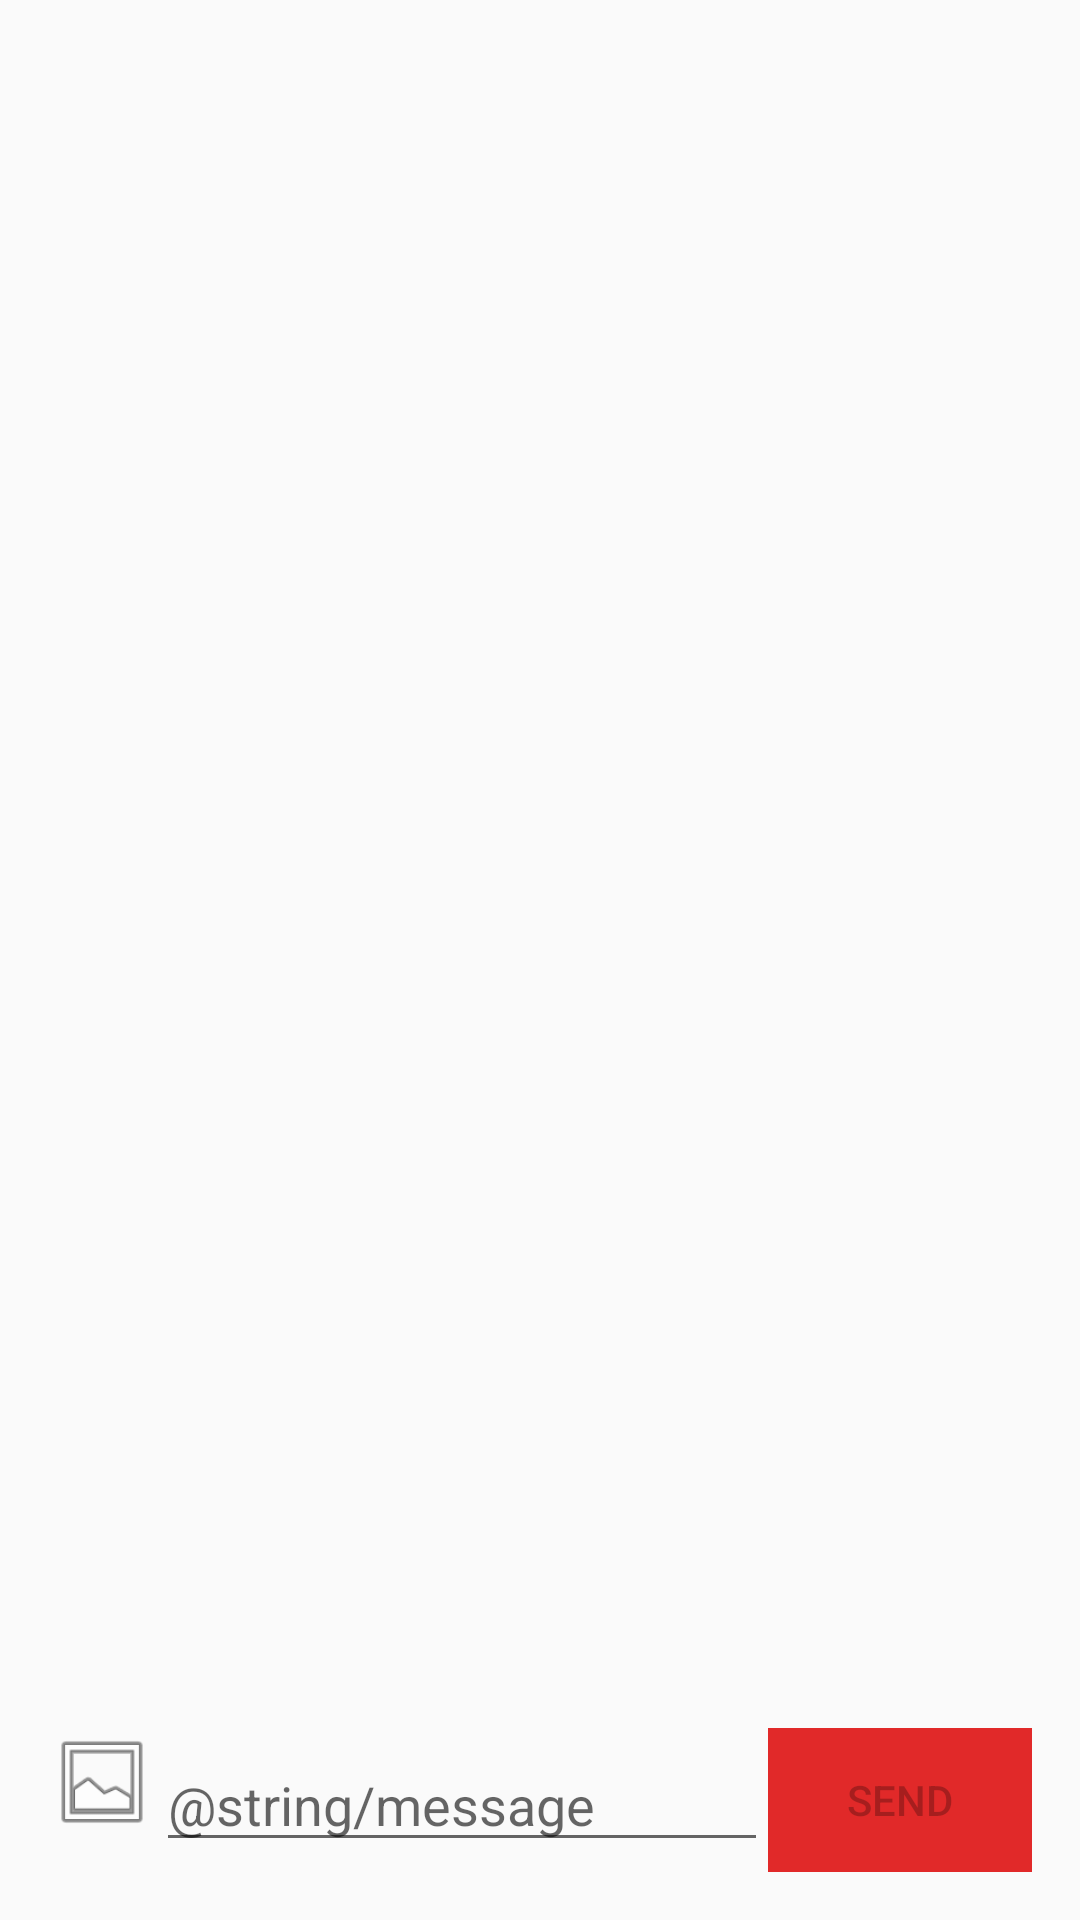

Screen size 1080*1920. Icon name, then its center in pixels as (x,y):
gallery: (102,1782)
